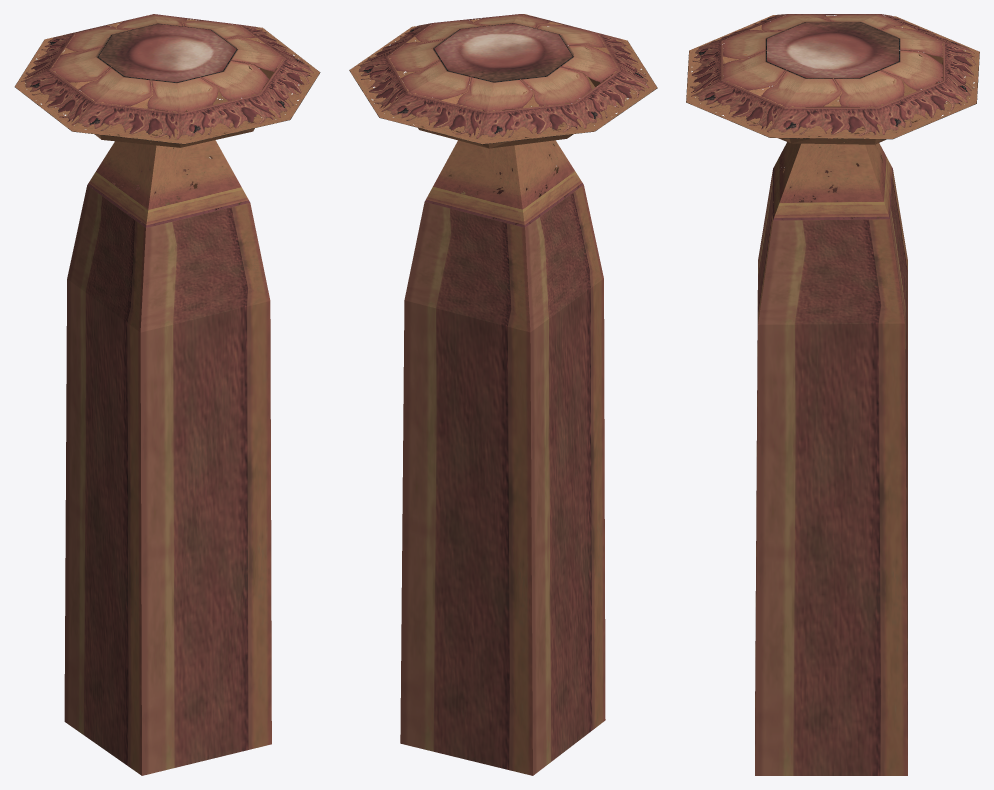
File: balance-plat-lod1.glb
The picture shows the model from 3 angles, left to right: view 1: azimuth 30°, elevation 25°; view 2: azimuth 150°, elevation 25°; view 3: azimuth 270°, elevation 25°; orthographic projection. The views are drawn at different scales.
Parts seen in each view (by area): view 1: balance-plat-lod1; view 2: balance-plat-lod1; view 3: balance-plat-lod1.
Boxes of the visible parts, x1,y1,x2,y2 form: balance-plat-lod1: [14, 14, 320, 775]; balance-plat-lod1: [349, 14, 657, 775]; balance-plat-lod1: [686, 14, 979, 775].
Size of the model in its own units: 5.35 by 13.92 by 5.35.
Materials: 5 (5 with a texture image).
